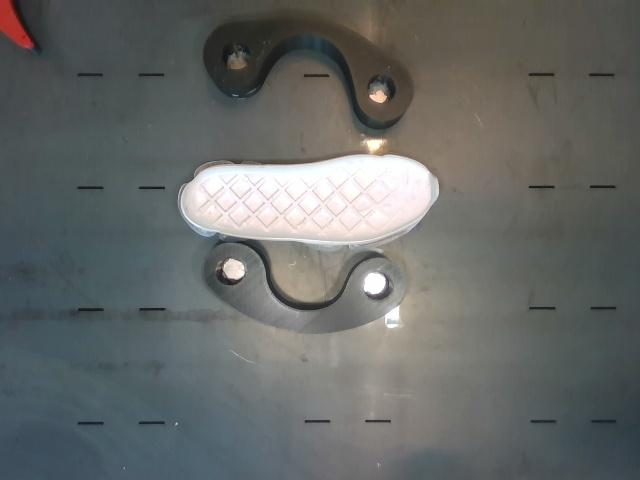shoes: (182, 155, 439, 241)
